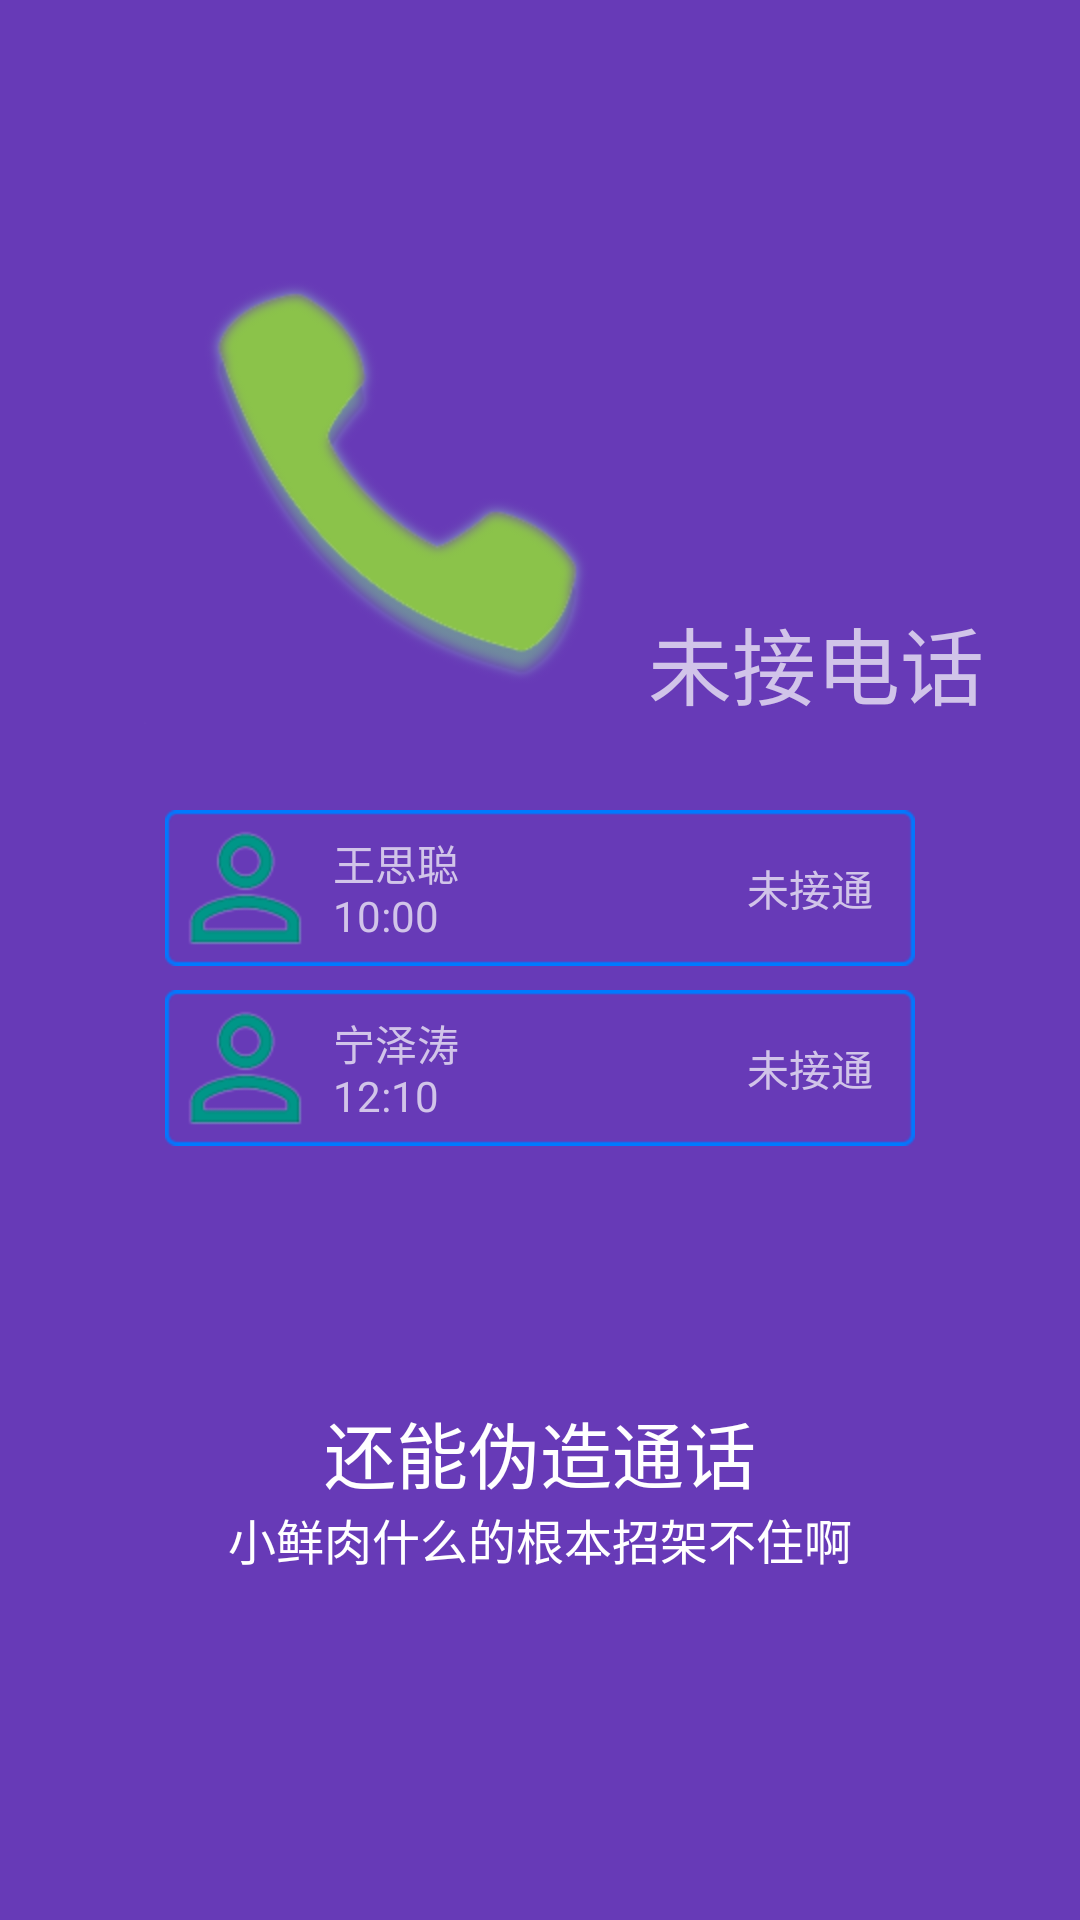

Icon click points for this 1080 x 1920 phone screenshot, format point (x, y):
person: point (245, 888), point (245, 1068)
